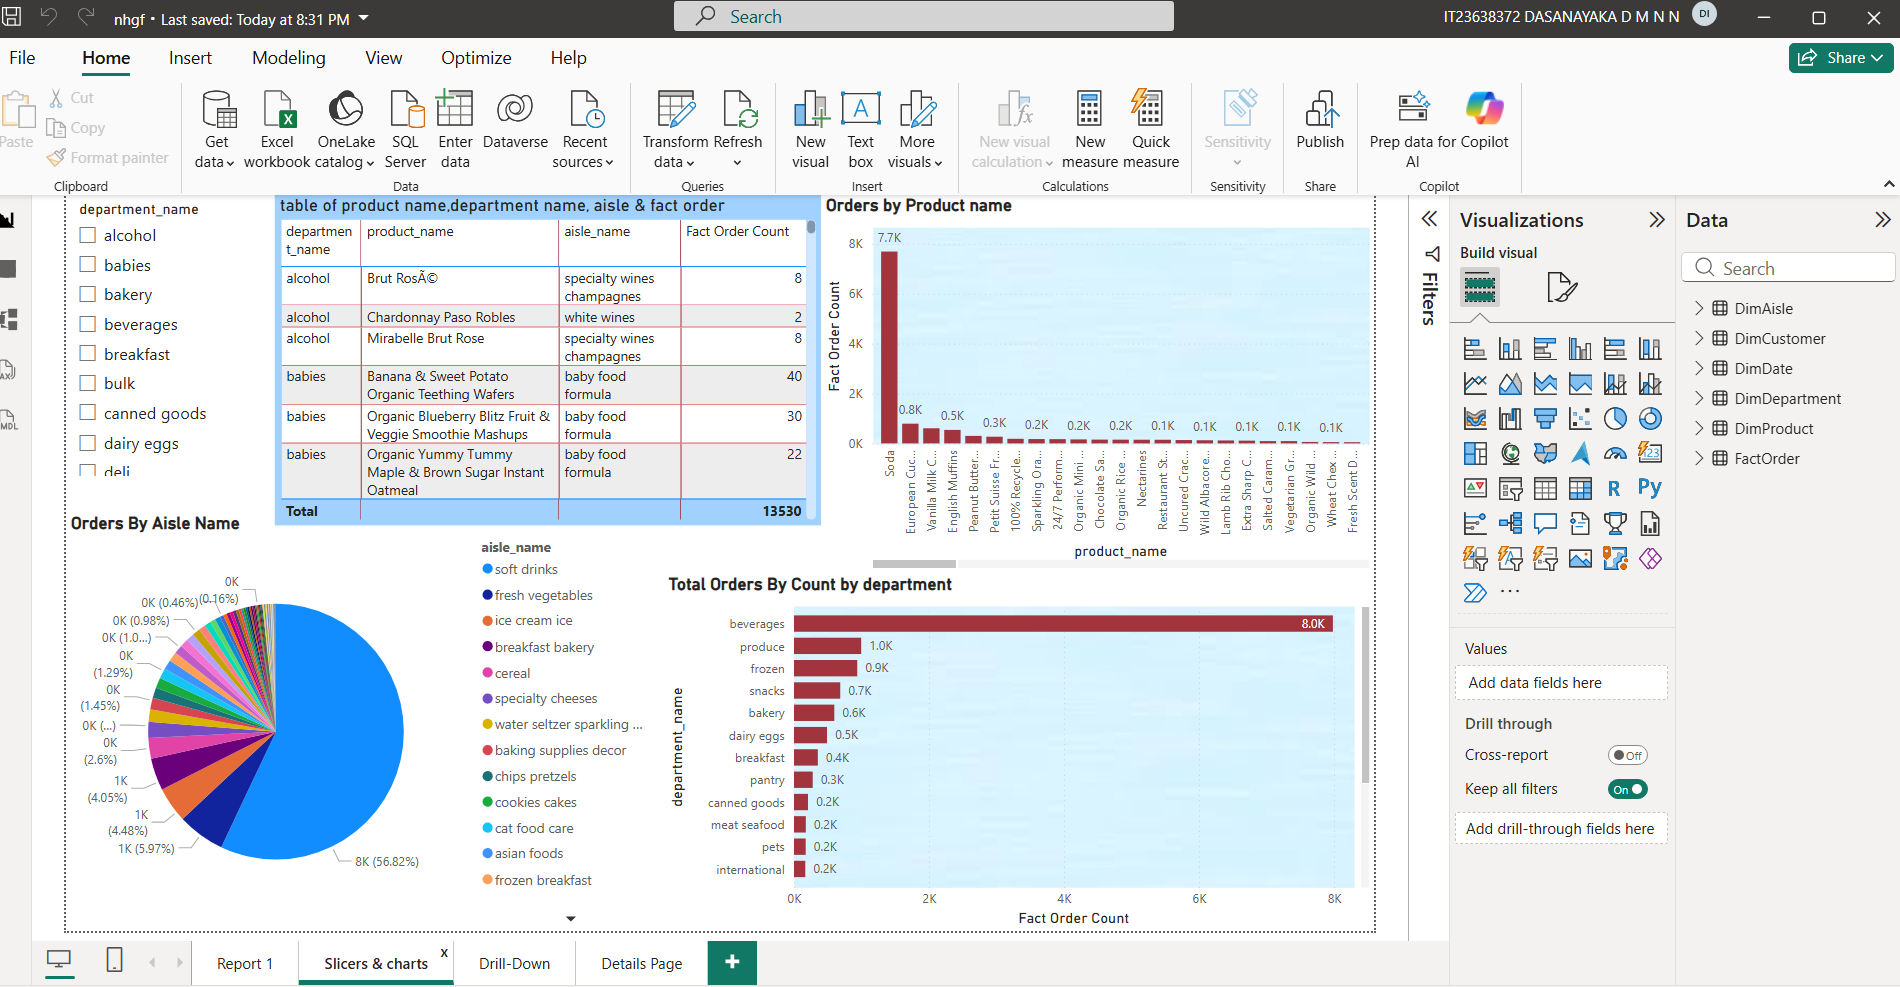

What the dashboard file says about the page in this screenshot:
{"tool":"powerbi","page":{"name":"Slicers & charts","canvas":[1280,720],"ordinal":1},"visuals":[{"type":"slicer","fields":{"Values":["DimDepartment.department_name"]},"box":[0,0,280,280],"z":0},{"type":"clusteredColumnChart","title":"Orders by Product name ","fields":{"Y":["FactOrder.Fact Order Count"],"Category":["DimProduct.product_name"]},"box":[738.6,0,541.4,370],"z":1000},{"type":"pieChart","title":"Orders By Aisle Name ","fields":{"Category":["DimAisle.aisle_name"],"Y":["FactOrder.Fact Order Count"]},"box":[0,310,584.3,410],"z":2000},{"type":"clusteredBarChart","title":"Total Orders By Count by department","fields":{"Y":["FactOrder.Fact Order Count"],"Category":["DimDepartment.department_name"]},"box":[584.3,370,695.7,350],"z":3000},{"type":"tableEx","title":"table of product name,department name, aisle & fact order","fields":{"Values":["DimDepartment.department_name","DimProduct.product_name","DimAisle.aisle_name","FactOrder.Fact Order Count"]},"box":[204.3,0,534.3,322.9],"z":4000}]}

Visuals, with their boxes on the page's 1280x720 design canvas (x1, y1, x2, y2). These are canvas units, not pixel positions in the 1900x987 screenshot, which may show the page scaled, cropped or inside an application window:
slicer - DimDepartment.department_name: [0, 0, 280, 280]
"Orders by Product name " clusteredColumnChart: [739, 0, 1280, 370]
"Orders By Aisle Name " pieChart: [0, 310, 584, 720]
"Total Orders By Count by department" clusteredBarChart: [584, 370, 1280, 720]
"table of product name,department name, aisle & fact order" tableEx: [204, 0, 739, 323]
